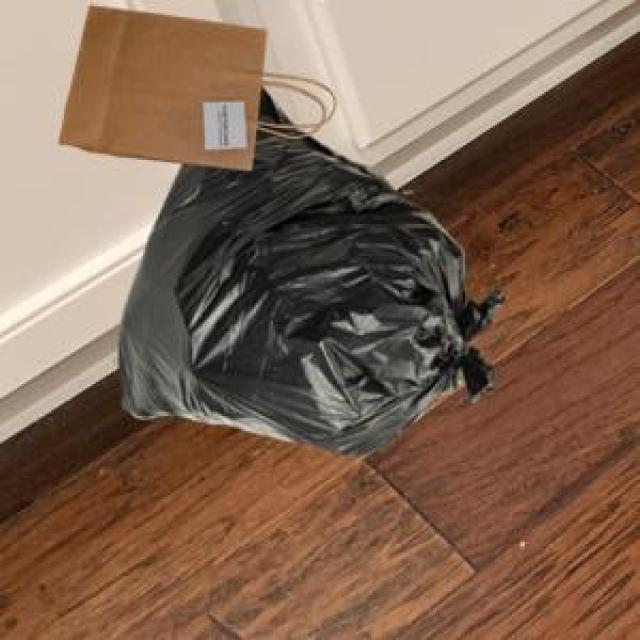miscellaneous trash: (115, 83, 499, 452)
paper: (56, 2, 280, 166)
